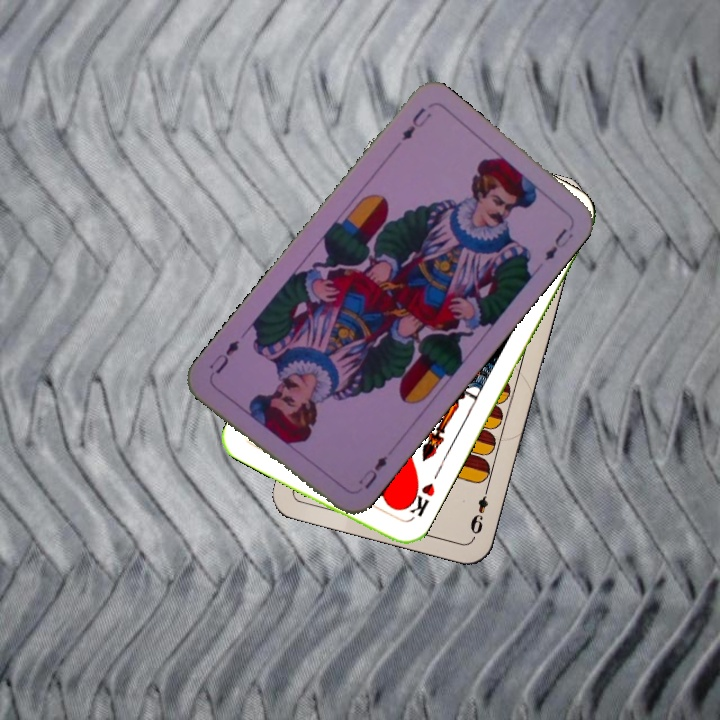E9: (466, 482, 492, 540)
EU: (354, 451, 391, 492), (397, 103, 434, 144)
HK: (399, 477, 438, 524)
